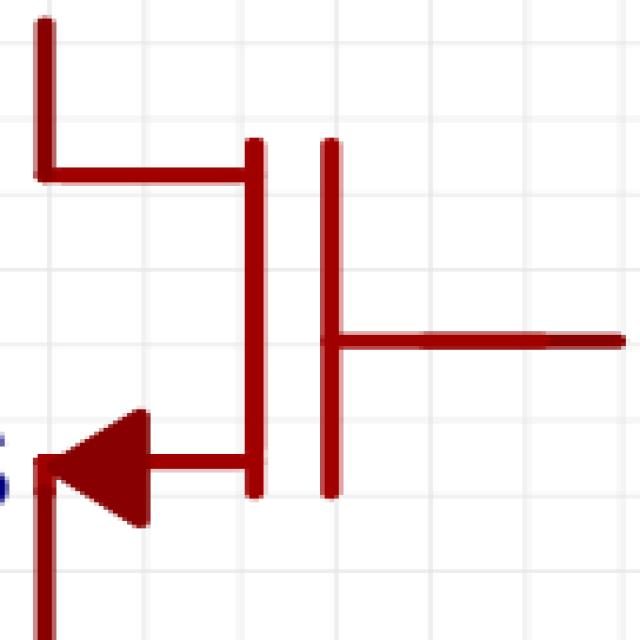nmos: (18, 0, 629, 640)
